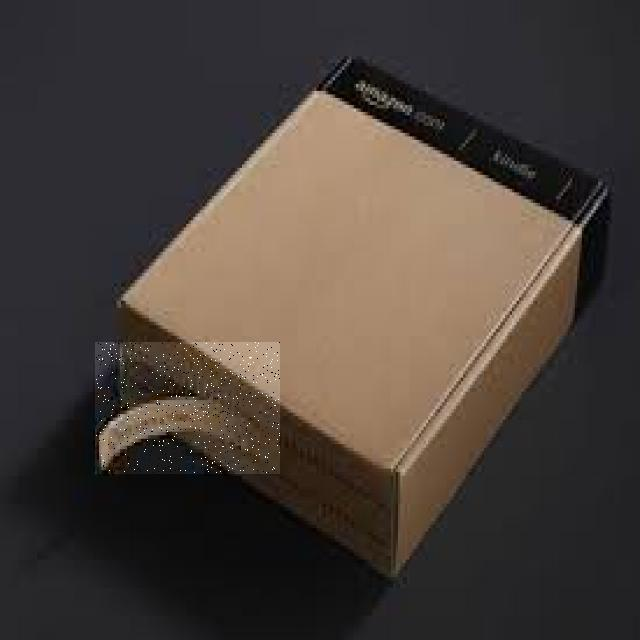tear: (96, 343, 280, 473)
